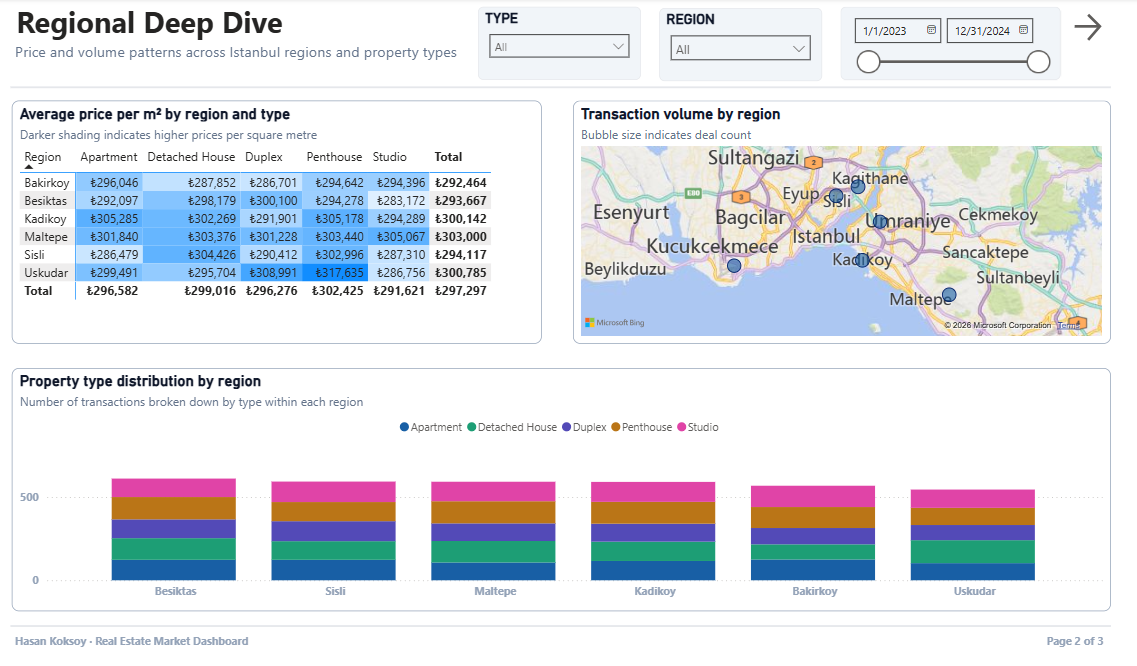

This screenshot's page, from the dashboard's own definition file:
{"tool":"powerbi","page":{"name":"Regional Deep Dive","canvas":[1280,760],"ordinal":1},"visuals":[{"type":"textbox","box":[26.1,0,543.4,71.4],"z":0},{"type":"textbox","box":[24.7,42.5,516,39.8],"z":1},{"type":"pivotTable","title":"Average price per m² by region and type","fields":{"Rows":["regions.region_name"],"Columns":["property_attributes.property_type"],"Values":["transactions.Avg Price per m2"]},"box":[26.1,113.9,585.9,269],"z":2},{"type":"map","title":"Transaction volume by region","fields":{"Category":["regions.region_name"],"Size":["transactions.Total Transactions"]},"box":[646.3,113.9,594.2,269],"z":3},{"type":"columnChart","title":"Property type distribution by region","fields":{"Category":["regions.region_name"],"Y":["transactions.Total Transactions"],"Series":["property_attributes.property_type"]},"box":[26.1,408.9,1214.4,269],"z":4},{"type":"slicer","title":"TYPE","fields":{"Values":["property_attributes.property_type"]},"box":[542,9.6,179.8,81],"z":10},{"type":"slicer","title":"REGION","fields":{"Values":["regions.region_name"]},"box":[741,11,179.8,81],"z":11},{"type":"slicer","fields":{"Values":["calendar.date"]},"box":[941.3,9.6,242.9,81],"z":12},{"type":"shape","box":[24.7,82.3,1215.8,31.6],"z":13},{"type":"actionButton","box":[1195.2,12.3,45.3,39.8],"z":14},{"type":"shape","box":[24.7,677.9,1215.8,31.6],"z":15},{"type":"textbox","box":[941.3,695.7,299.1,27.4],"z":16},{"type":"textbox","box":[24.7,695.7,391.1,30.2],"z":17}]}

Visuals, with their boxes in screenshot pixels (x1, y1, x2, y2), scaled from the page's 1280x760 canvas onto the 1137x666 screenshot:
textbox: {"left": 23, "top": 0, "right": 506, "bottom": 63}
textbox: {"left": 22, "top": 37, "right": 480, "bottom": 72}
"Average price per m² by region and type" pivotTable: {"left": 23, "top": 100, "right": 544, "bottom": 336}
"Transaction volume by region" map: {"left": 574, "top": 100, "right": 1102, "bottom": 336}
"Property type distribution by region" columnChart: {"left": 23, "top": 358, "right": 1102, "bottom": 594}
"TYPE" slicer: {"left": 481, "top": 8, "right": 641, "bottom": 79}
"REGION" slicer: {"left": 658, "top": 10, "right": 818, "bottom": 81}
slicer - calendar.date: {"left": 836, "top": 8, "right": 1052, "bottom": 79}
shape: {"left": 22, "top": 72, "right": 1102, "bottom": 100}
actionButton: {"left": 1062, "top": 11, "right": 1102, "bottom": 46}
shape: {"left": 22, "top": 594, "right": 1102, "bottom": 622}
textbox: {"left": 836, "top": 610, "right": 1102, "bottom": 634}
textbox: {"left": 22, "top": 610, "right": 369, "bottom": 636}
